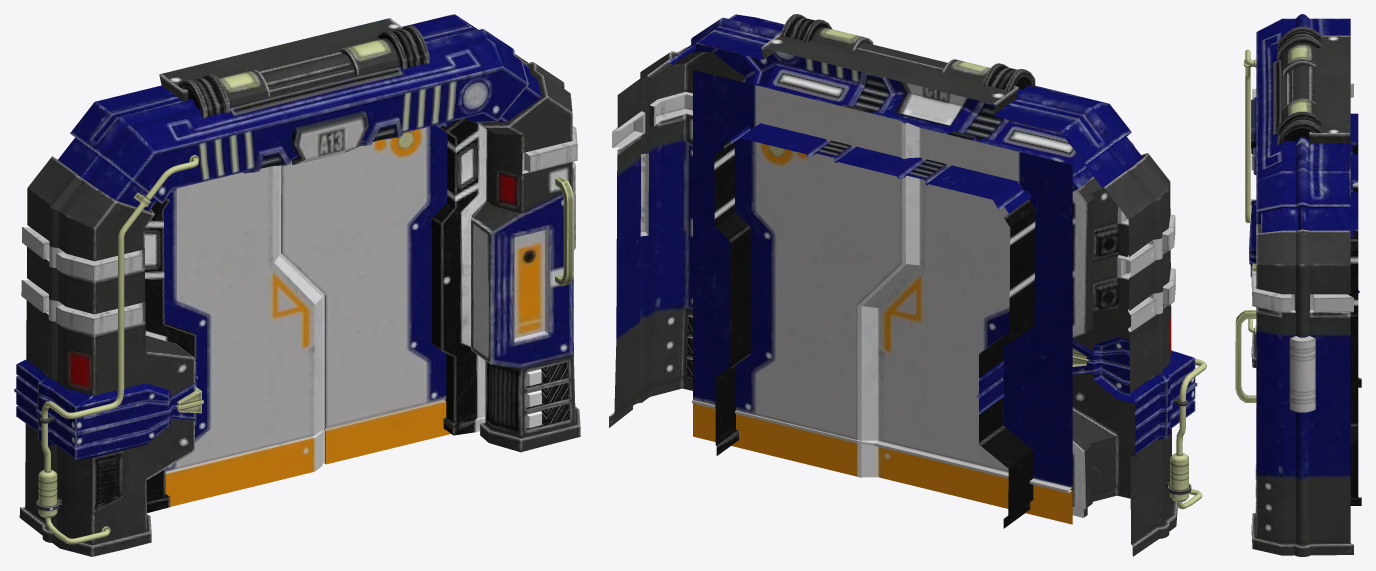
Rendered from keeper-door-2.glb.
3 renders of one model, left to right at view 1: azimuth 30°, elevation 25°; view 2: azimuth 150°, elevation 25°; view 3: azimuth 270°, elevation 25°, orthographic. The views are drawn at different scales.
Visible parts, largest first — view 1: door_003_01_-_Default_0; view 2: door_003_01_-_Default_0; view 3: door_003_01_-_Default_0.
Boxes of the visible parts, box(x1,y1,x2,y2) form: door_003_01_-_Default_0: box(14, 14, 580, 556); door_003_01_-_Default_0: box(609, 14, 1206, 556); door_003_01_-_Default_0: box(1235, 14, 1361, 556).
Size of the model in its own units: 27.78 by 20.86 by 6.41.
Materials: 1 (1 with a texture image).
